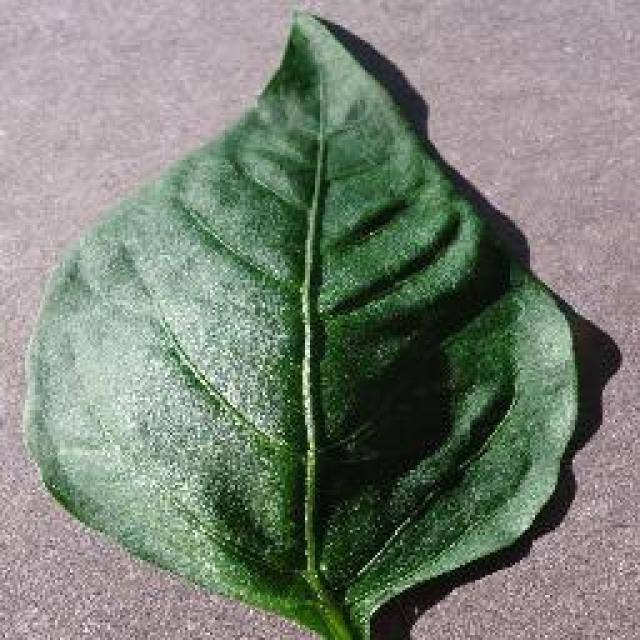Leaf: (200, 141, 582, 512)
